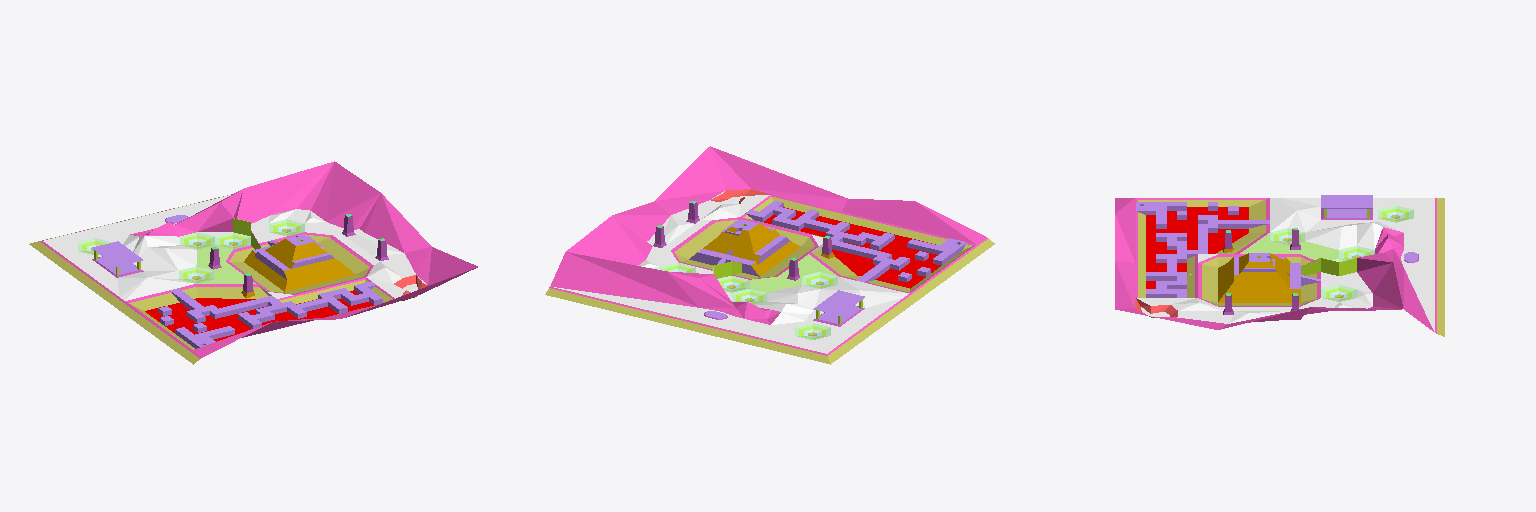
Rendered from Shifting Sand Land Area 1.obj.
The picture shows the model from 3 angles: view 1: azimuth 30°, elevation 25°; view 2: azimuth 150°, elevation 25°; view 3: azimuth 270°, elevation 25°; orthographic projection.
Size of the model in its own units: 33278 by 3838 by 32766.